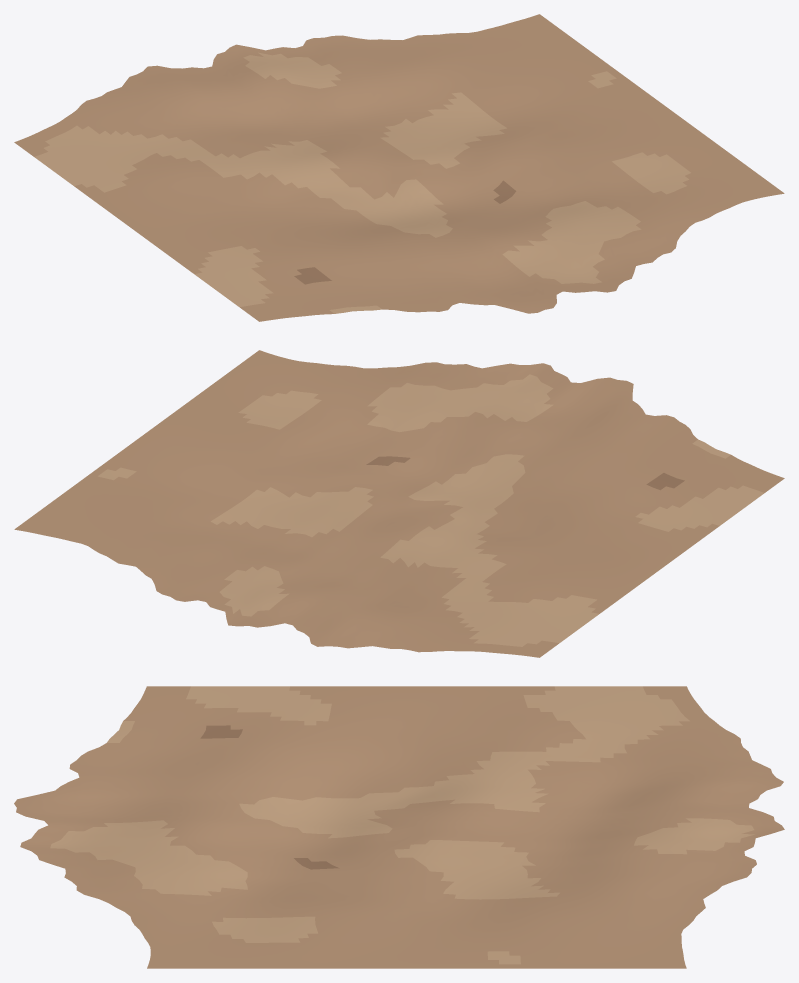
The model's file is SM_CanyonFloor_Straight_B_Wide.glb.
3 views of the same model, one above another, from view 1: azimuth 30°, elevation 25°; view 2: azimuth 150°, elevation 25°; view 3: azimuth 270°, elevation 25° (orthographic). The views are drawn at different scales.
Visible parts, largest first — view 1: SM_CanyonFloor_Straight_B_Wide; view 2: SM_CanyonFloor_Straight_B_Wide; view 3: SM_CanyonFloor_Straight_B_Wide.
Boxes of the visible parts, left/top/right/bottom form: SM_CanyonFloor_Straight_B_Wide: left=14, top=14, right=784, bottom=321; SM_CanyonFloor_Straight_B_Wide: left=14, top=350, right=784, bottom=657; SM_CanyonFloor_Straight_B_Wide: left=14, top=686, right=784, bottom=968.
Bounding box in the file's own units: 24 × 0.4714 × 27.7.
